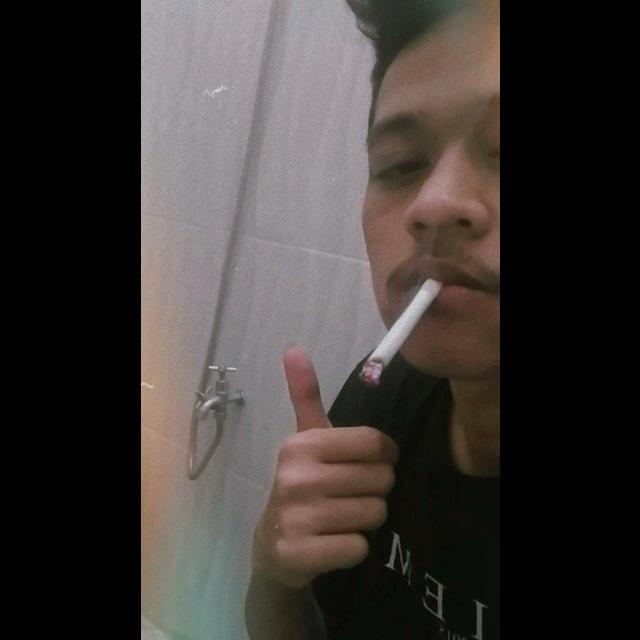rokok: (350, 272, 444, 394)
